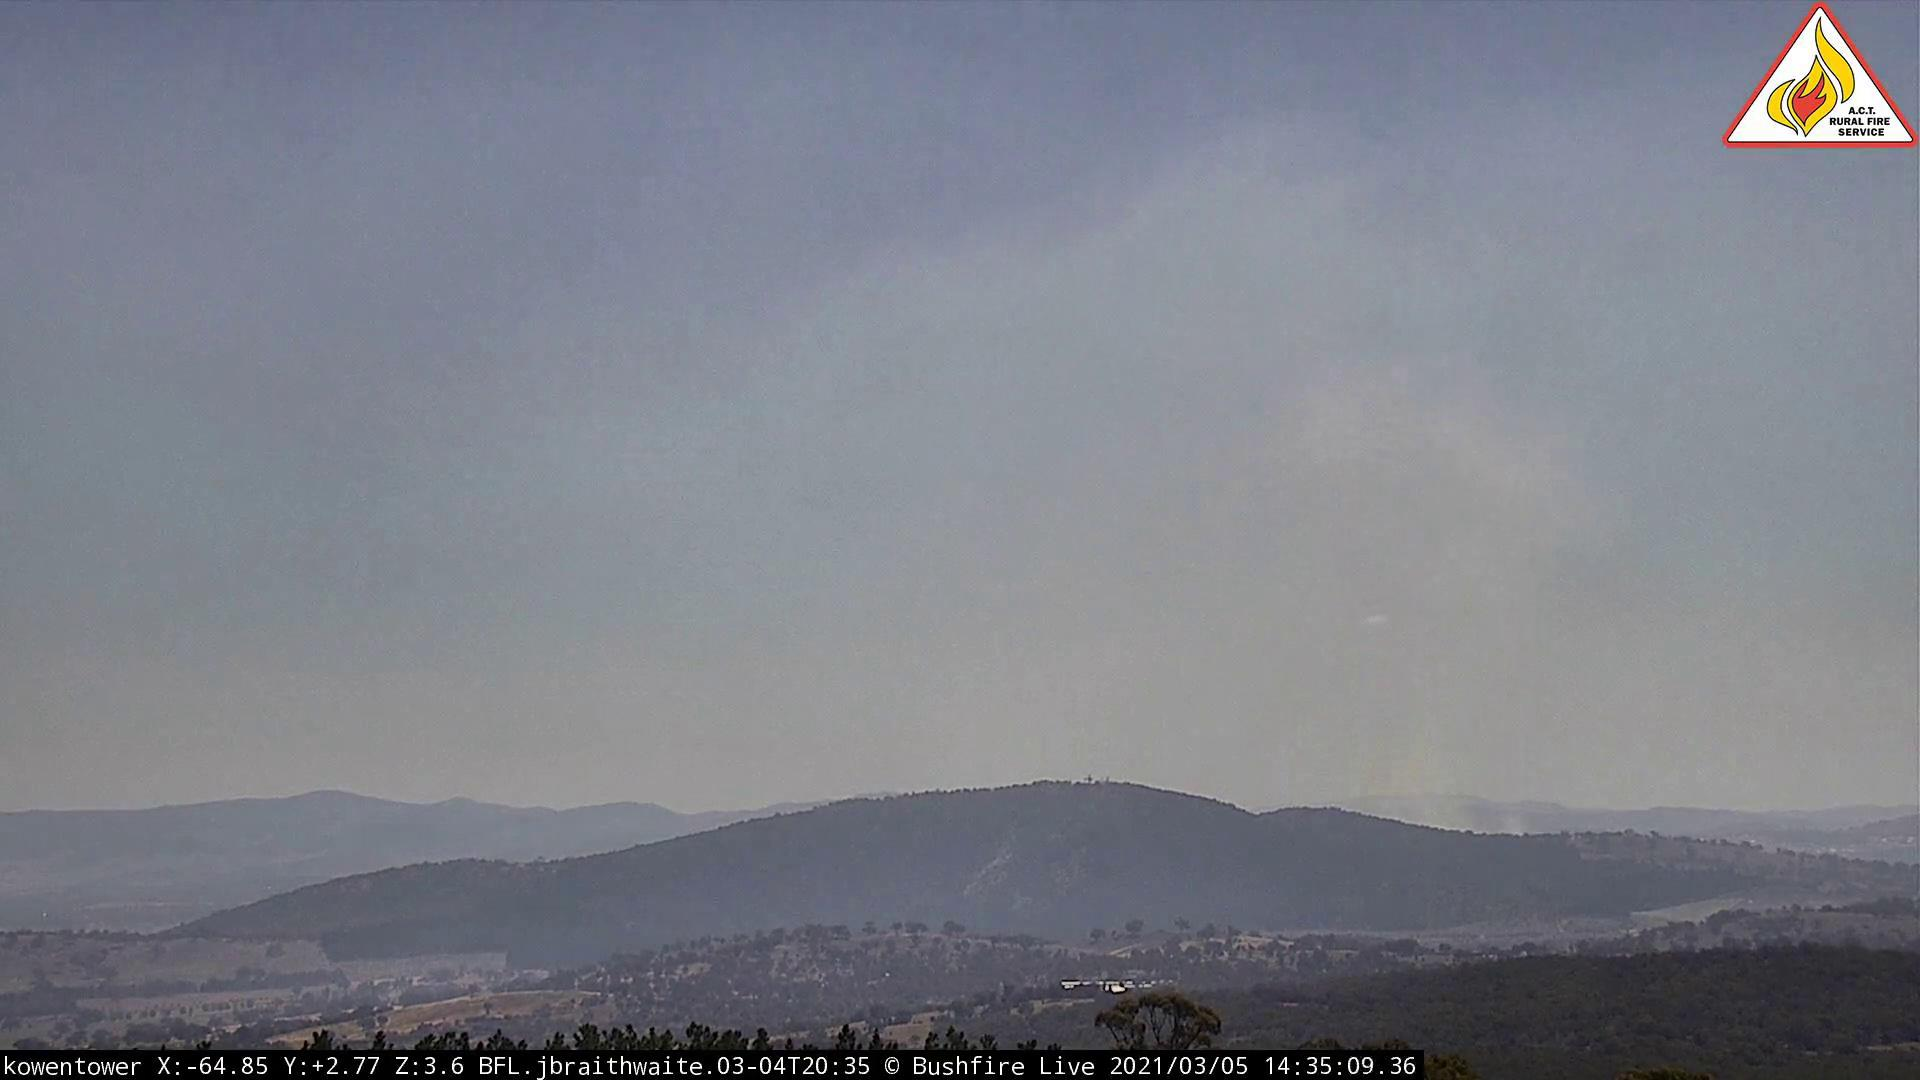instance_salient_object: (1172, 339, 1652, 851)
